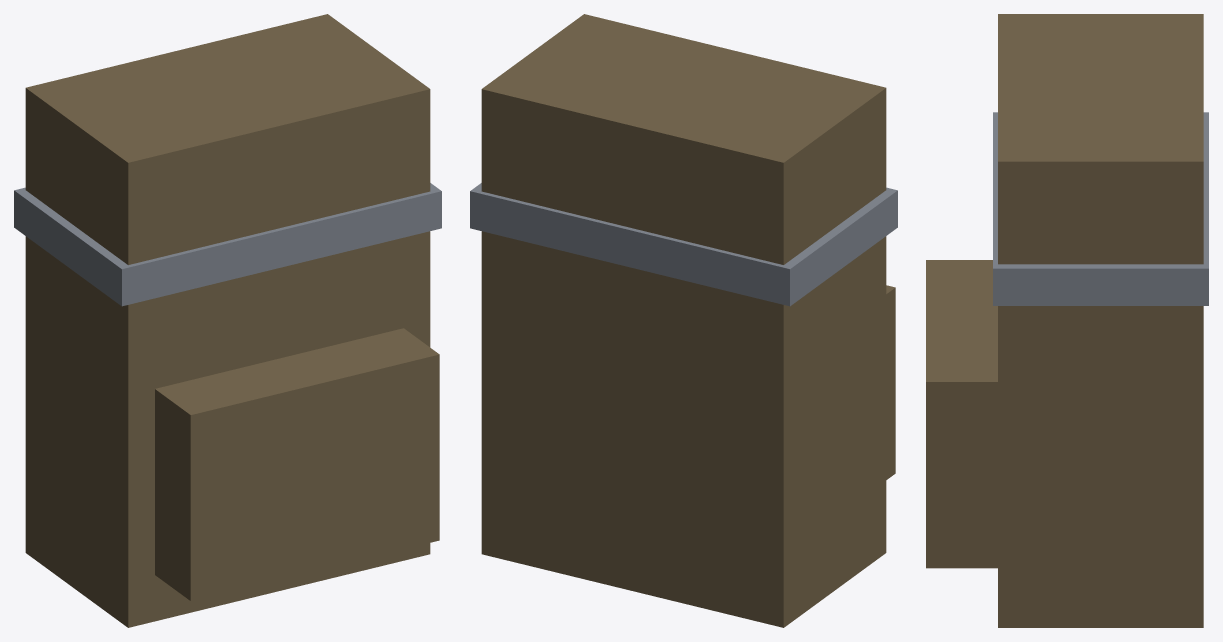
Rendered from backpack_lv1.glb.
3 views of the same model, side by side, from view 1: azimuth 30°, elevation 25°; view 2: azimuth 150°, elevation 25°; view 3: azimuth 270°, elevation 25° (orthographic).
Visible parts, largest first — view 1: model; view 2: model; view 3: model.
Boxes of the visible parts, left/top/right/bottom form: model: left=14, top=14, right=441, bottom=627; model: left=470, top=14, right=897, bottom=627; model: left=926, top=14, right=1208, bottom=627.
Size of the model in its own units: 0.36 by 0.5 by 0.275.
